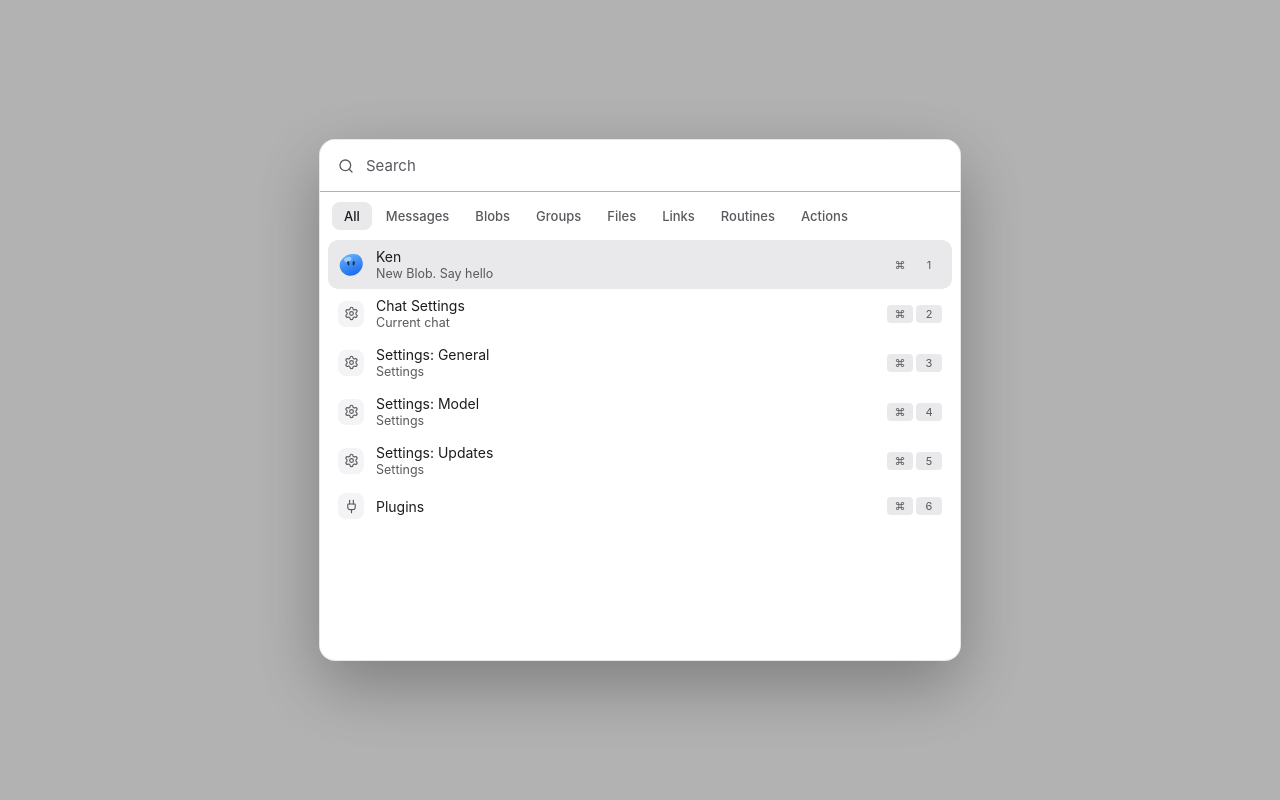
Scenario: SearchModal › says what is missing per tab, with the same shape everywhere
Step 1. Click the button "Groups" → (559,216), box [524,202,593,230]
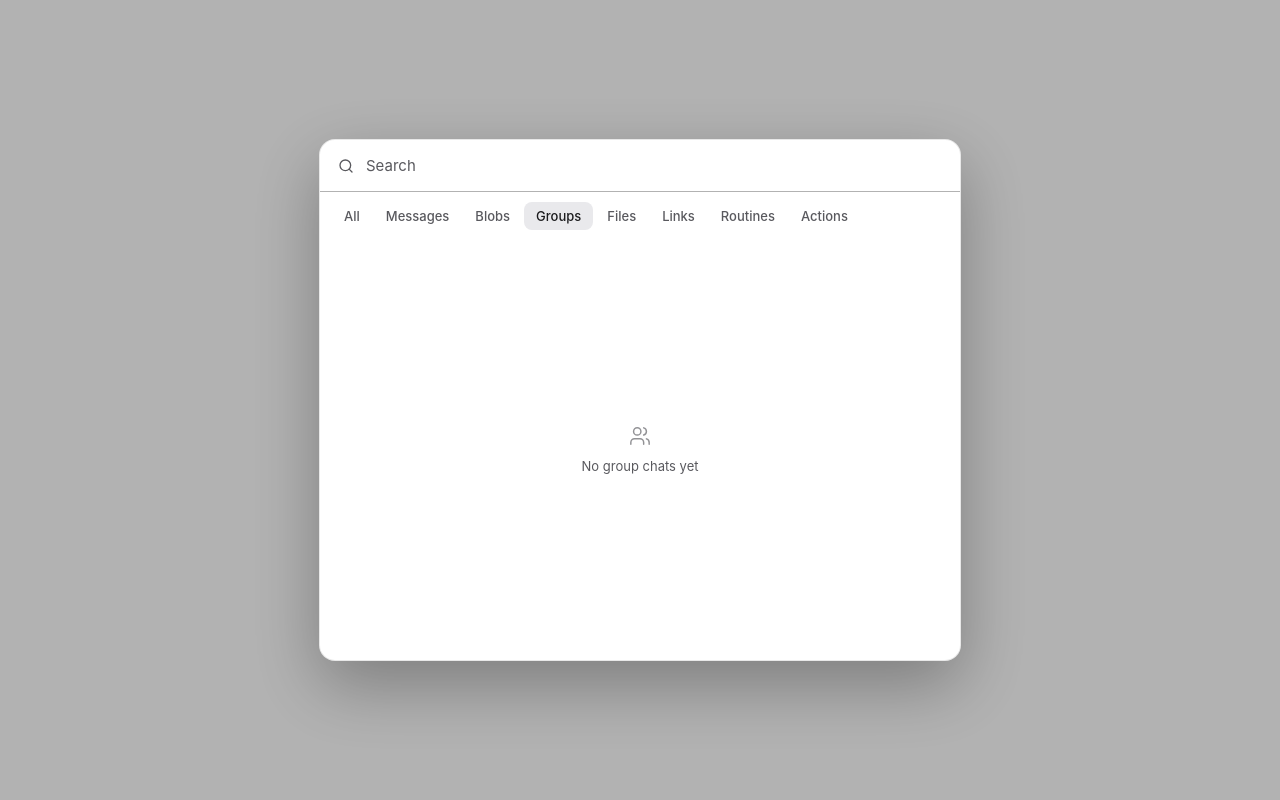
Check: the text "No group chats yet" is shown, box [582,457,698,475]
Step 2. Click the button "Routines" → (748,216), box [709,202,787,230]
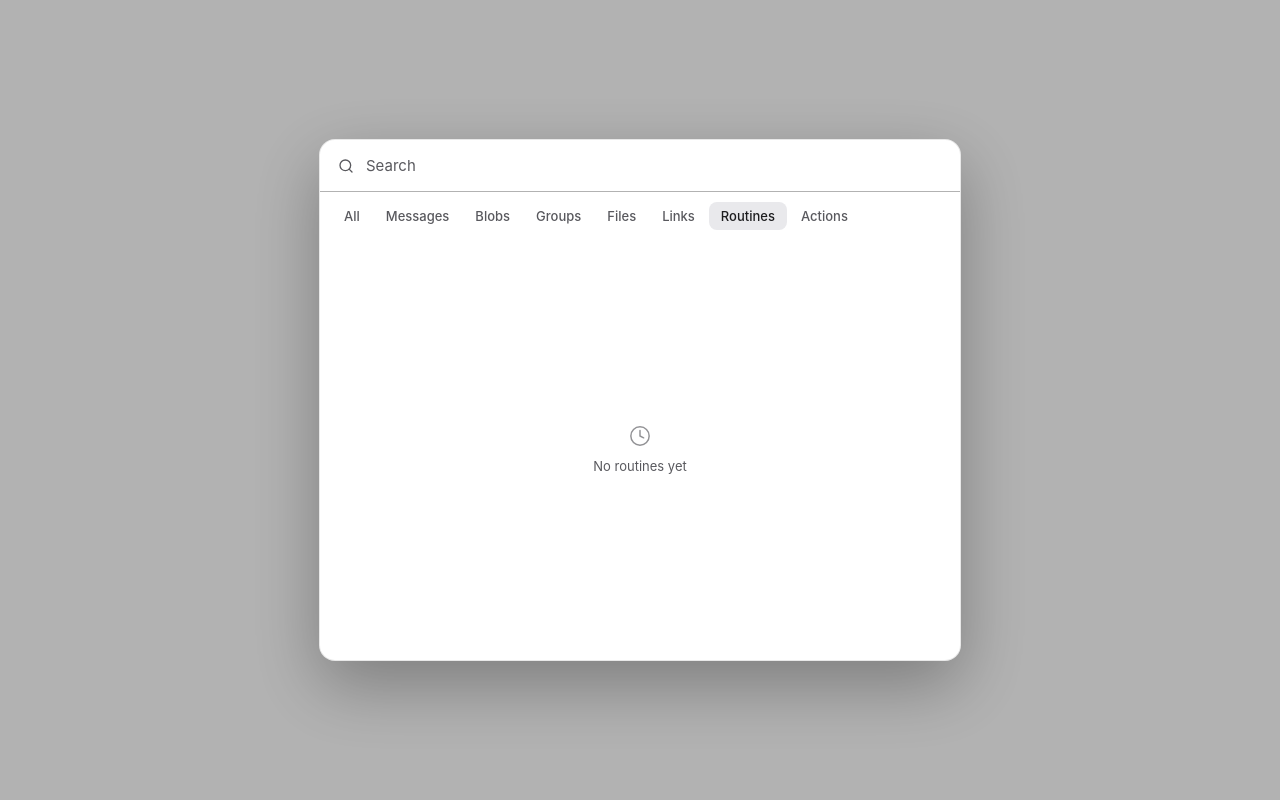
Check: the text "No routines yet" is shown, box [593,457,687,475]
Step 3. Click the button "Links" → (678,216), box [650,202,707,230]
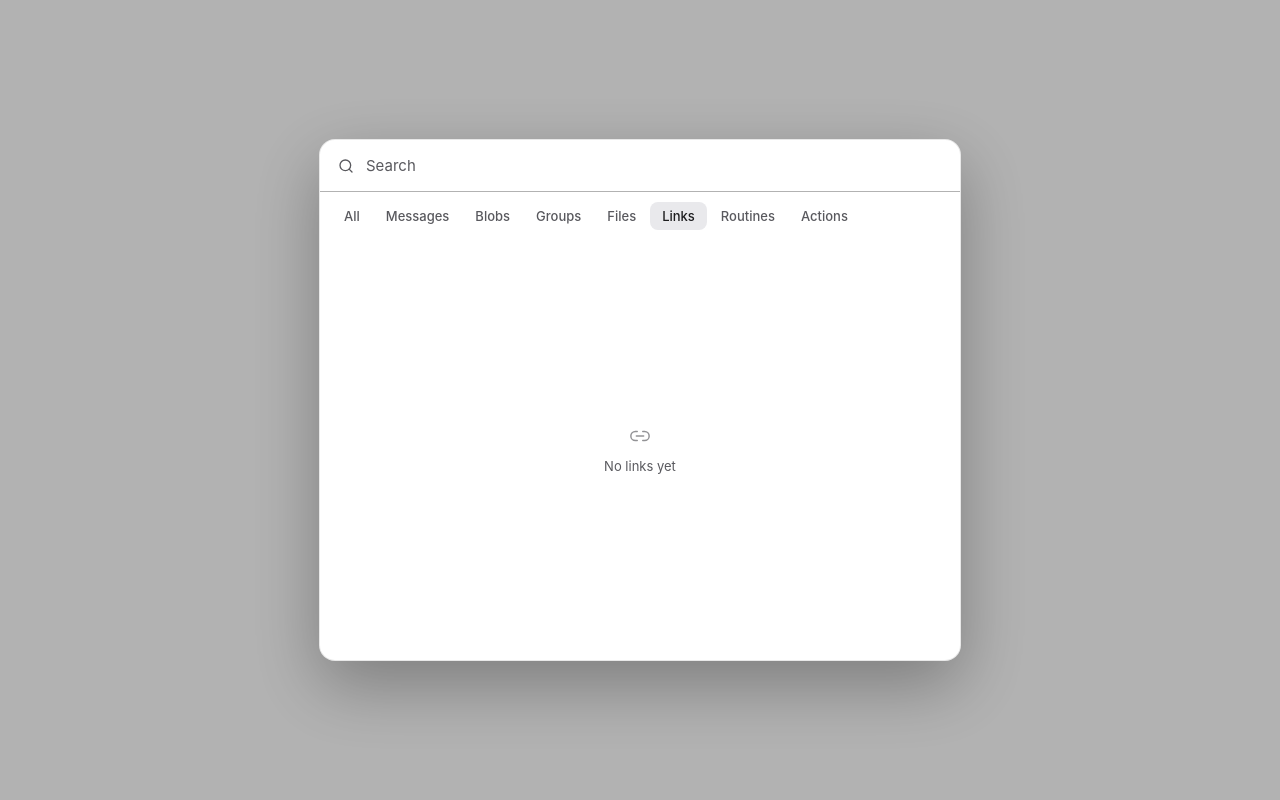
Check: the text "No links yet" is shown, box [604,457,676,475]
